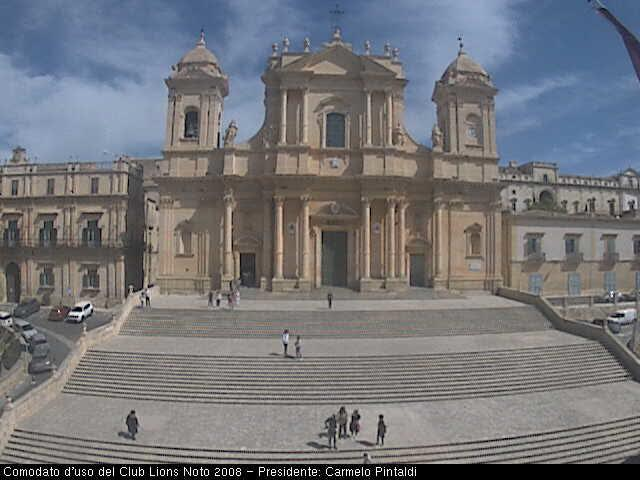person: (124, 408, 139, 441), (323, 414, 337, 449), (375, 414, 389, 444), (337, 406, 348, 441), (280, 328, 290, 359), (350, 409, 360, 440), (144, 288, 153, 313), (295, 334, 303, 360), (214, 291, 223, 313), (326, 292, 335, 312), (233, 287, 241, 309), (206, 289, 214, 310), (225, 292, 233, 312), (140, 290, 147, 309), (361, 452, 372, 463)
